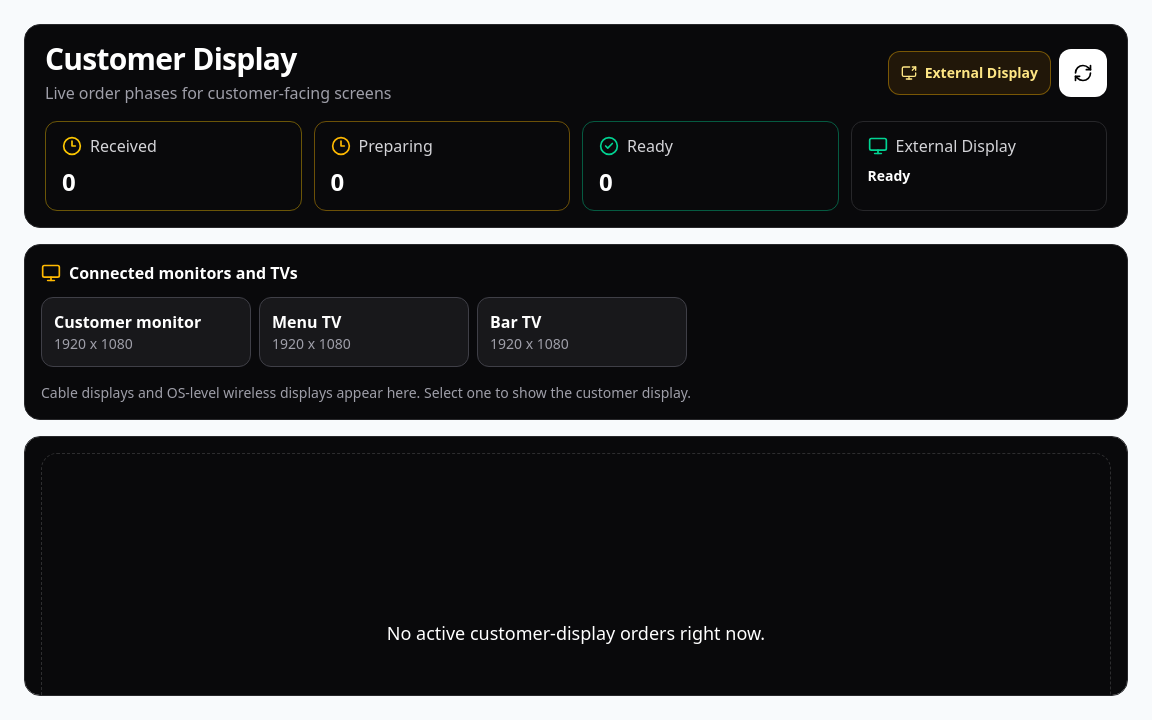
Scenario: persistent Windows Customer Display owner (strictly local) › a chosen screen travels only as its id; a native refusal is shown without redirect or Auto retry
This screenshot has width=1152, height=720.
Step 1. Click the button "Menu TV 1920 x 1080" → x=364, y=332, box [259,297,469,367]
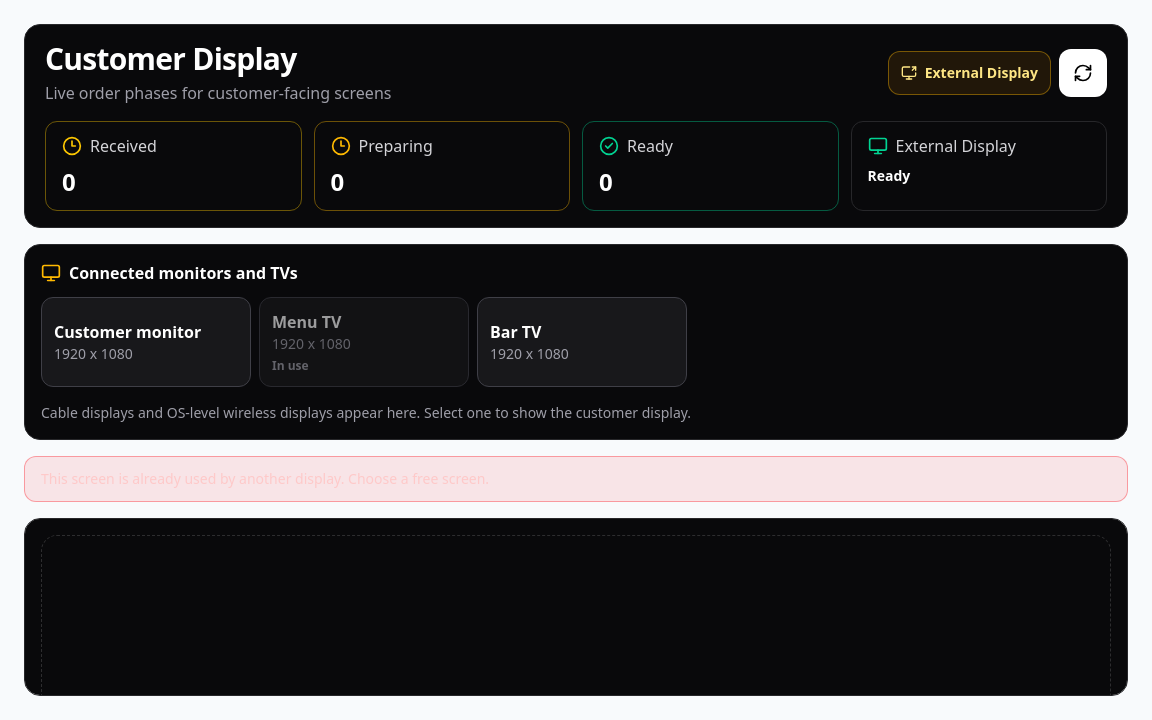
Expected: the text "This screen is already used by another display. Choose a free screen." is shown, [24,456,1128,502]
Expected: the button "Menu TV 1920 x 1080 In use" is disabled, [259,297,469,387]
Step 2. Click the button "Bar TV 1920 x 1080" → x=582, y=342, box [477,297,687,387]
Wait 10000 ms
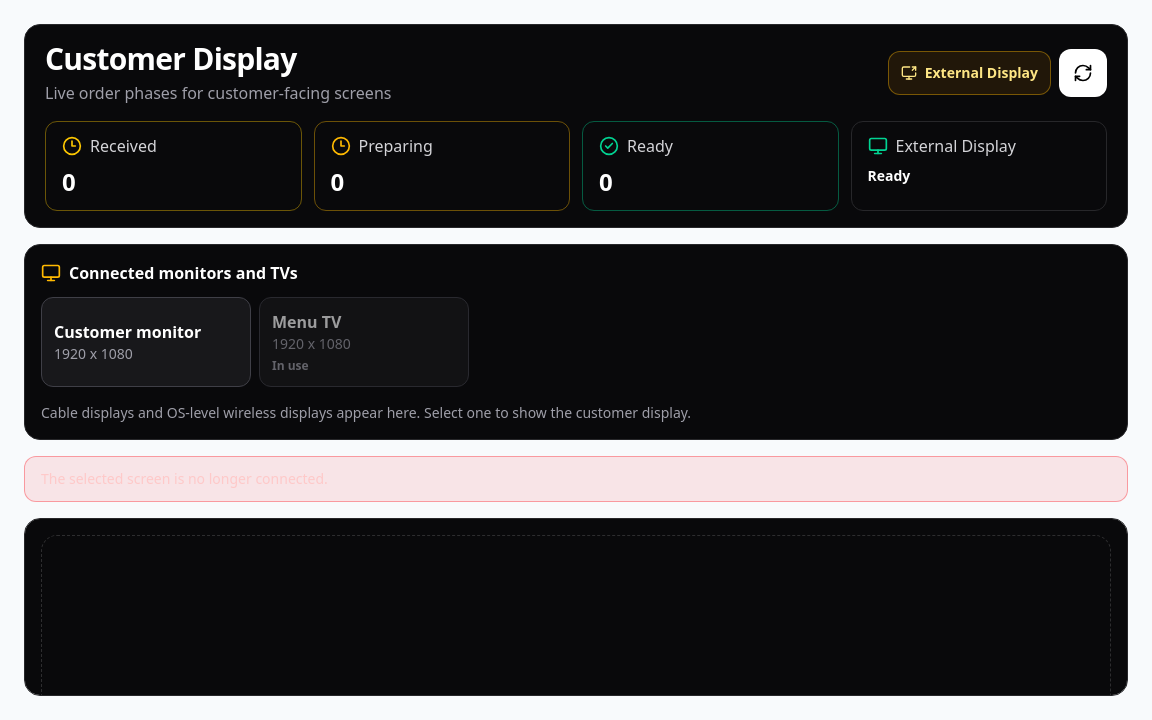
Expected: the text "The selected screen is no longer connected." is shown, [24,456,1128,502]
Expected: the button "Bar TV" is gone
